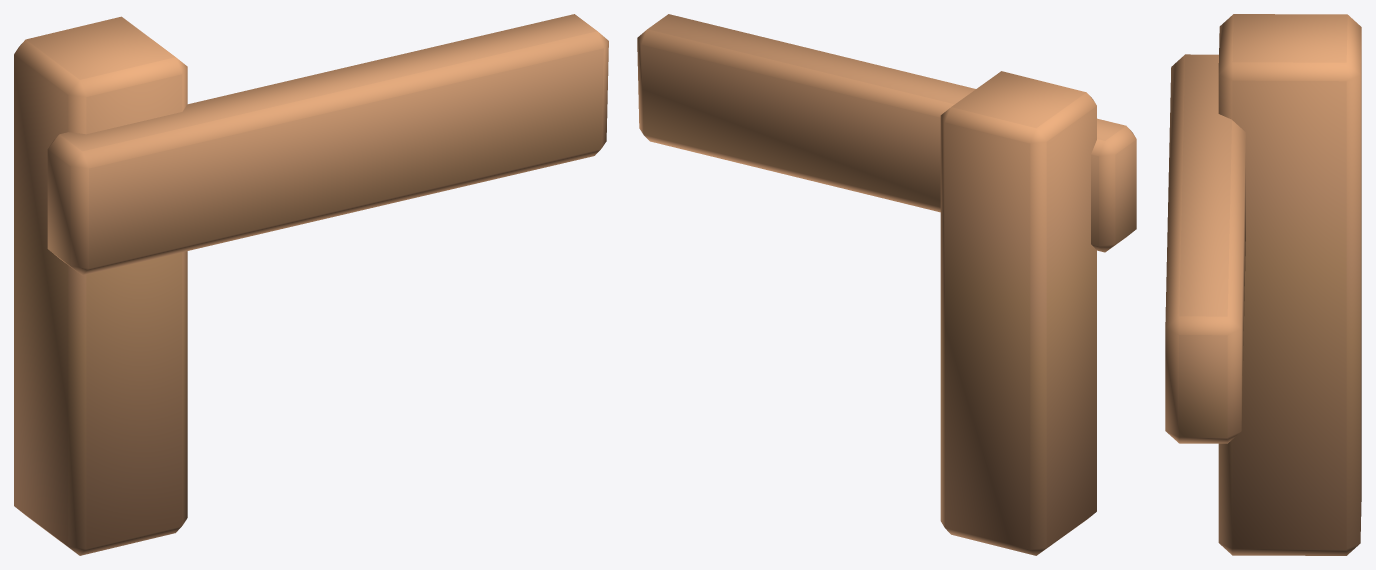
The model's file is FenceTile_3.fbx.
3 views of the same model, side by side, from view 1: azimuth 30°, elevation 25°; view 2: azimuth 150°, elevation 25°; view 3: azimuth 270°, elevation 25° (orthographic). The views are drawn at different scales.
Parts seen in each view (by area): view 1: FenceTile_3; view 2: FenceTile_3; view 3: FenceTile_3.
Boxes of the visible parts, x1,y1,x2,y2 form: FenceTile_3: [14, 14, 608, 555]; FenceTile_3: [637, 14, 1136, 555]; FenceTile_3: [1165, 14, 1361, 555].
Bounding box in the file's own units: 86.68 × 73.59 × 26.54.
